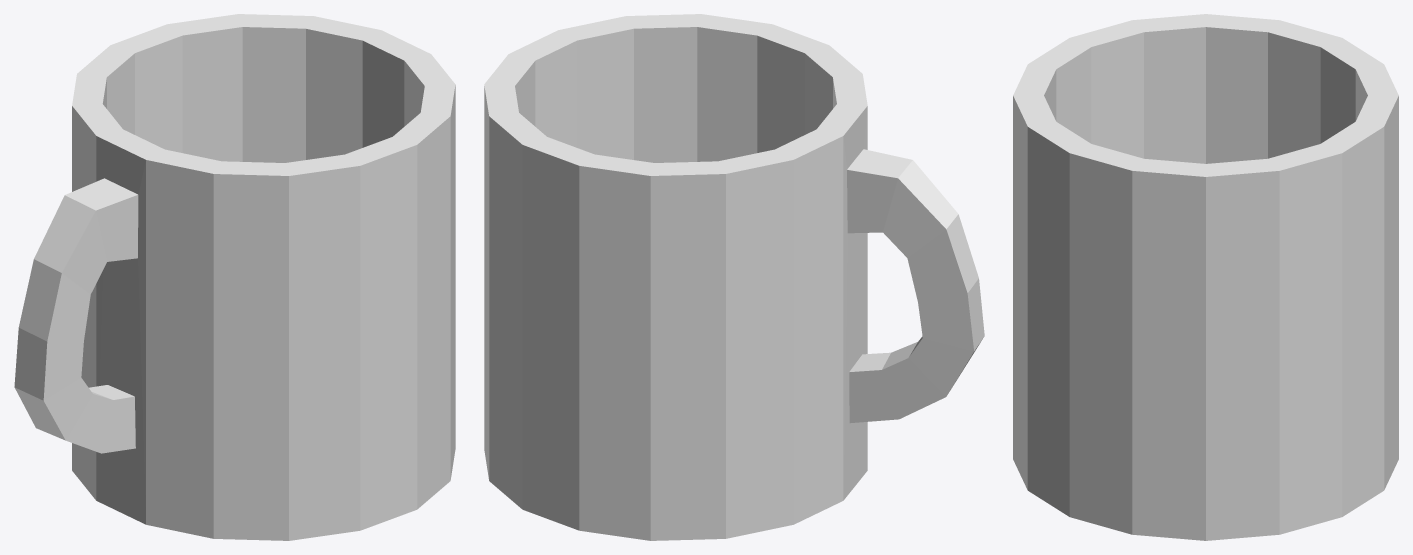
File: mug.fbx
3 renders of one model, left to right at view 1: azimuth 30°, elevation 25°; view 2: azimuth 150°, elevation 25°; view 3: azimuth 270°, elevation 25°, orthographic.
Visible parts, largest first — view 1: Cylinder; view 2: Cylinder; view 3: Cylinder.
Boxes of the visible parts, bbox=[...] form: Cylinder: bbox=[14, 14, 455, 540]; Cylinder: bbox=[484, 14, 984, 540]; Cylinder: bbox=[1013, 14, 1398, 540].
Size of the model in its own units: 18.75 by 14.82 by 14.24.
Materials: 1 (1 with a texture image).
